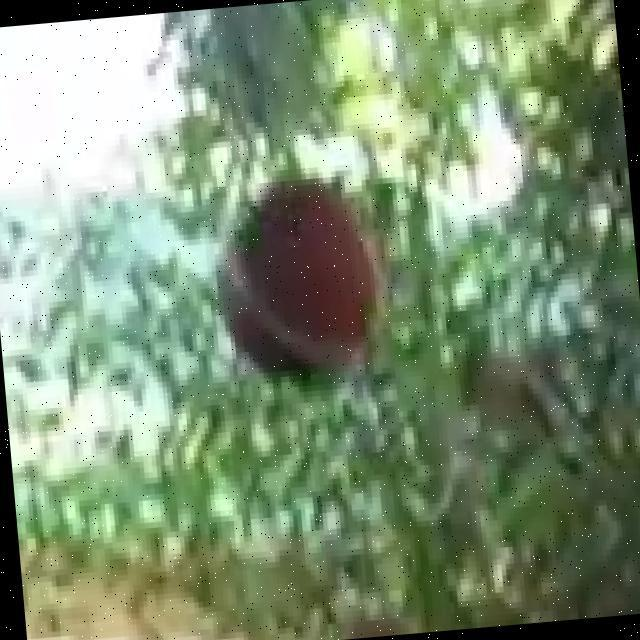ball: (192, 154, 396, 408)
